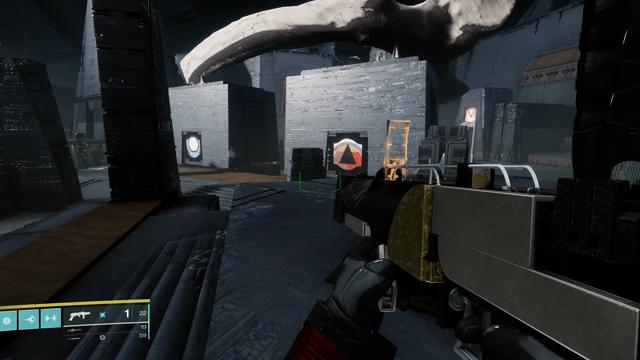pyramid: (333, 138, 362, 170)
traveler: (186, 136, 201, 158)
